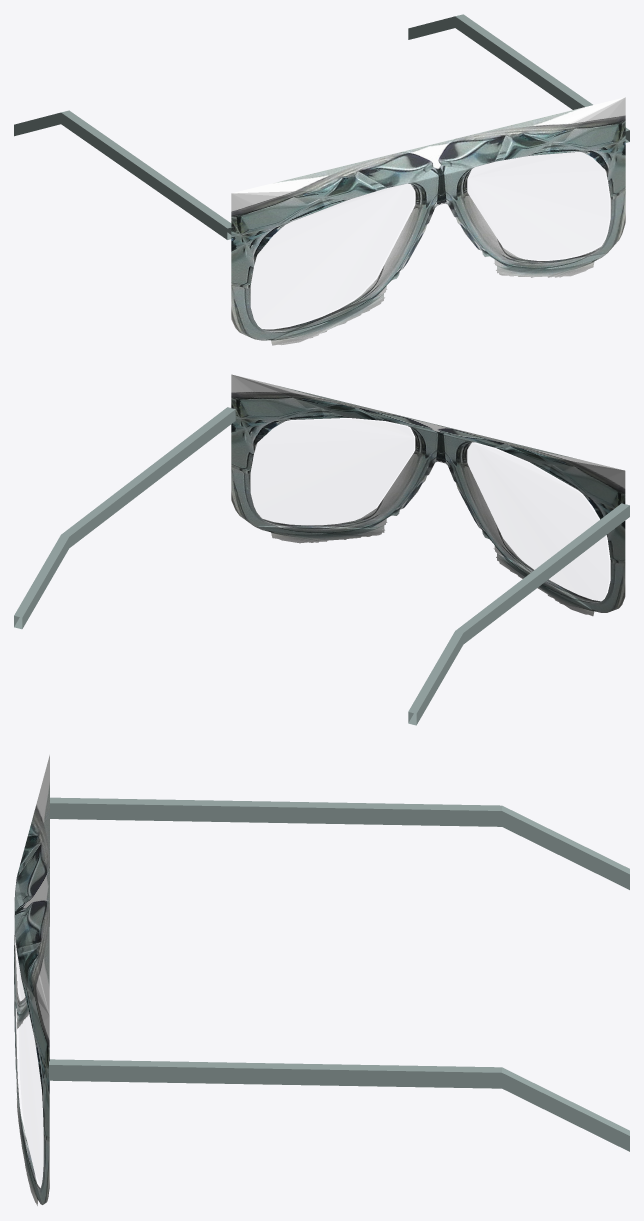
The model's file is smilen-elite-53_green.glb.
3 views of the same model, one above another, from view 1: azimuth 30°, elevation 25°; view 2: azimuth 150°, elevation 25°; view 3: azimuth 270°, elevation 25° (orthographic). The views are drawn at different scales.
Visible parts, largest first — view 1: frame_front, temple_viewer_left, temple_viewer_right; view 2: frame_front, temple_viewer_right, temple_viewer_left; view 3: temple_viewer_right, temple_viewer_left, frame_front.
Boxes of the visible parts, <box> form: frame_front: <box>231,97,625,345</box>; temple_viewer_left: <box>14,110,232,239</box>; temple_viewer_right: <box>408,14,629,142</box>; frame_front: <box>231,374,625,616</box>; temple_viewer_right: <box>14,407,235,629</box>; temple_viewer_left: <box>408,503,629,725</box>; temple_viewer_right: <box>49,1059,629,1151</box>; temple_viewer_left: <box>50,797,629,889</box>; frame_front: <box>14,755,49,1205</box>.
Bounding box in the file's own units: 0.1448 × 0.0546 × 0.141.
3 materials, 2 textured.
